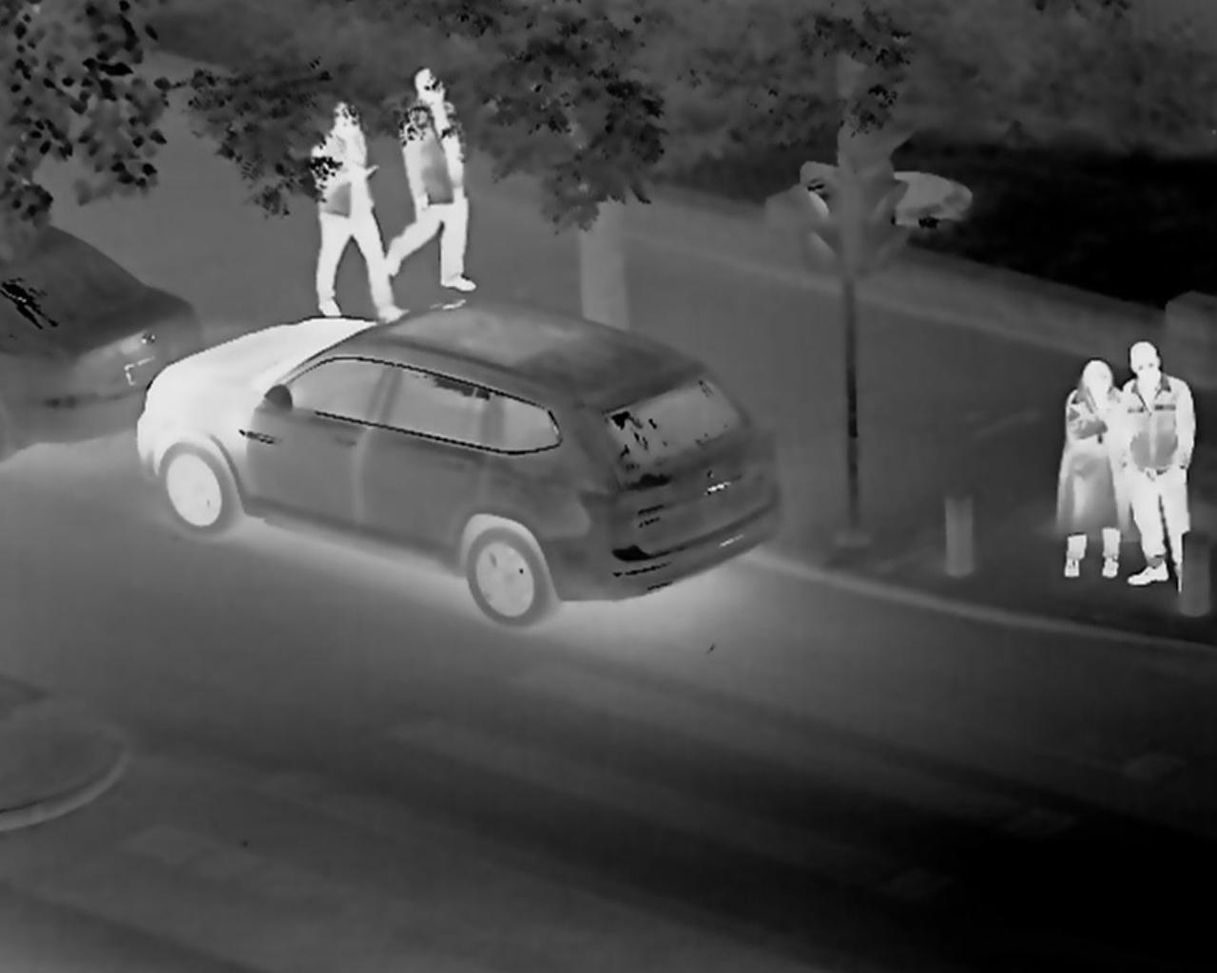person: (386, 88, 500, 312), (1123, 346, 1212, 599), (1067, 342, 1124, 593), (311, 100, 376, 305)
